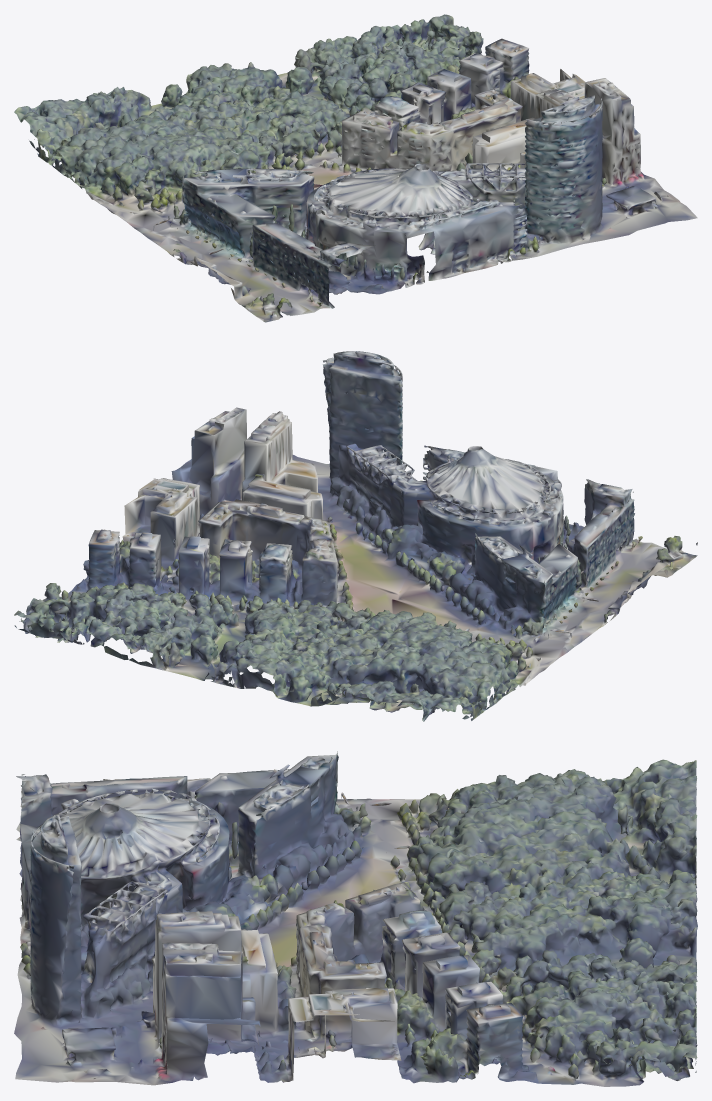
Rendered from tile-3894_58189.glb.
The picture shows the model from 3 angles, top to bottom: view 1: azimuth 30°, elevation 25°; view 2: azimuth 150°, elevation 25°; view 3: azimuth 270°, elevation 25°; orthographic projection. The views are drawn at different scales.
Parts seen in each view (by area): view 1: world; view 2: world; view 3: world.
Boxes of the visible parts, left/top/right/bottom form: world: left=14, top=14, right=697, bottom=322; world: left=14, top=351, right=697, bottom=721; world: left=14, top=751, right=697, bottom=1086.
Size of the model in its own units: 366 by 115 by 365.
